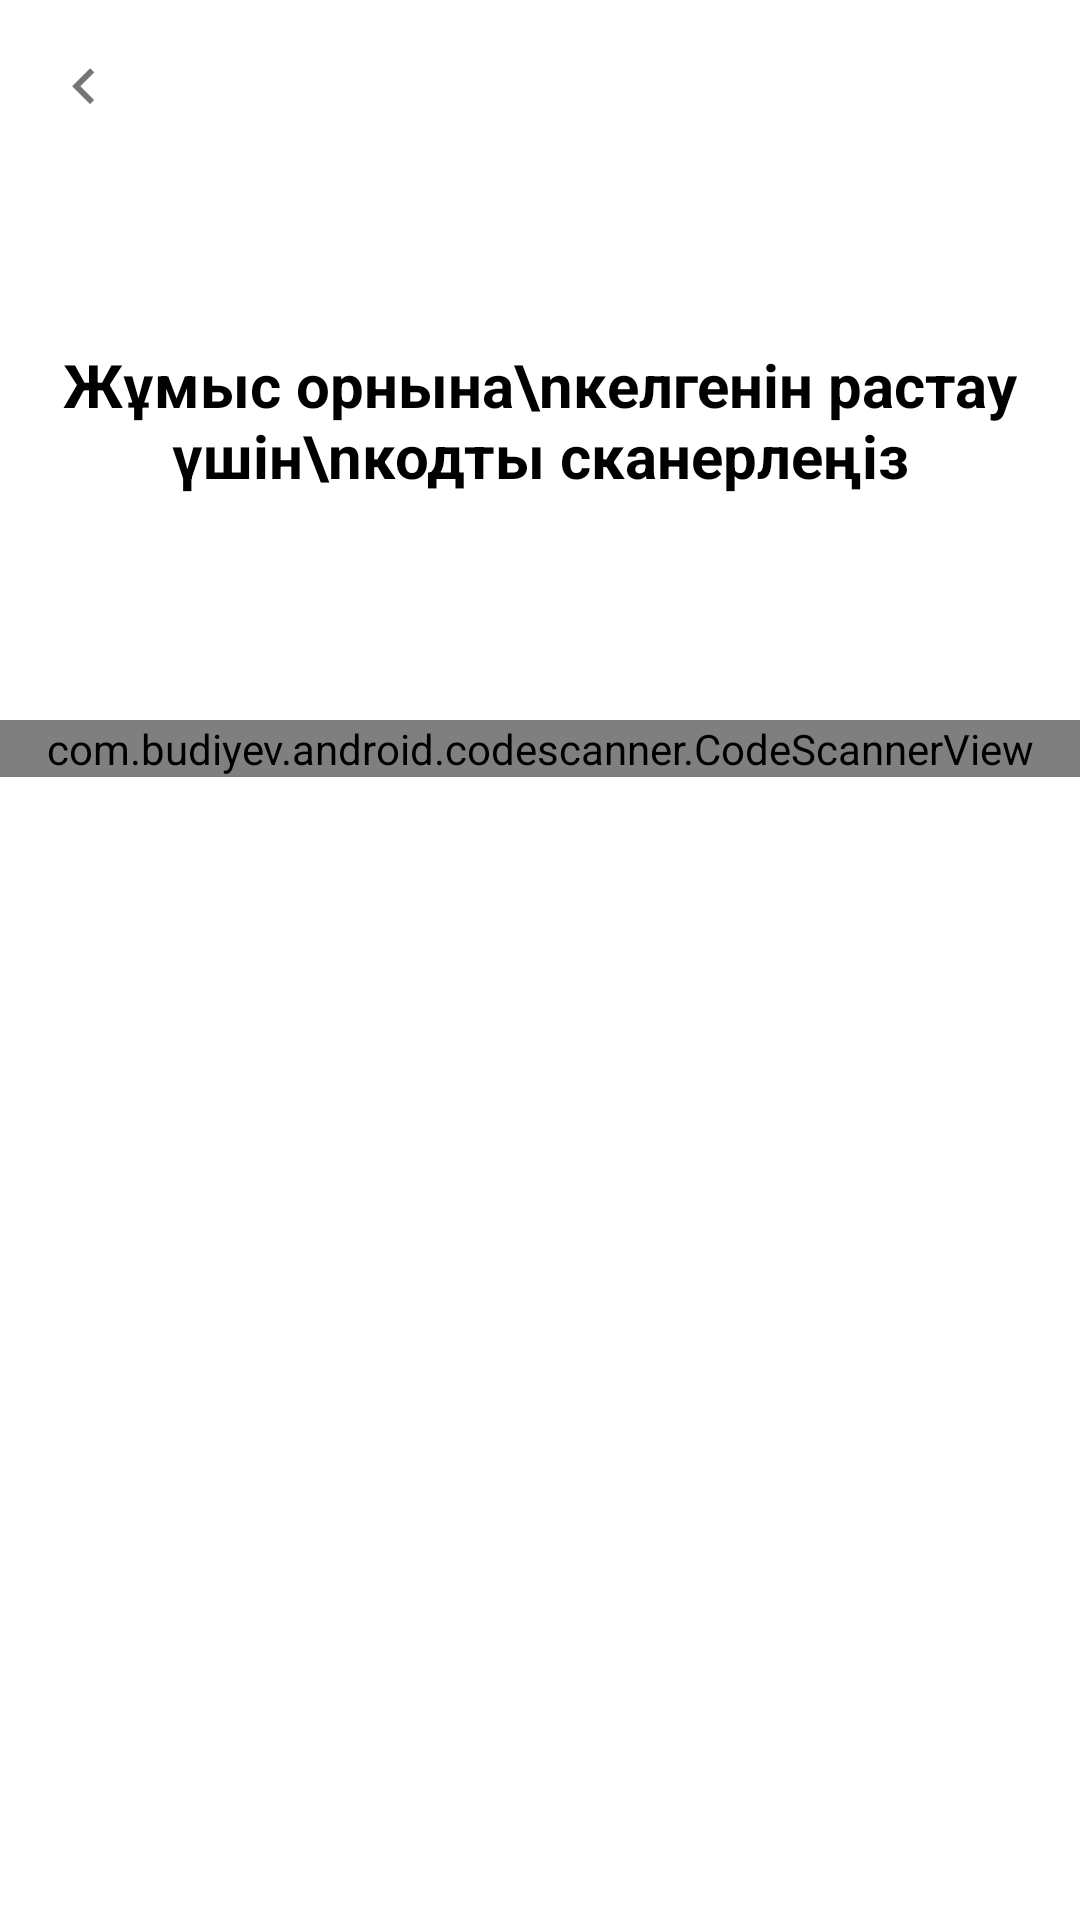

Icon click points for this 1080×1920 phone screenshot, format point (x, y):
back: point (83, 86)
